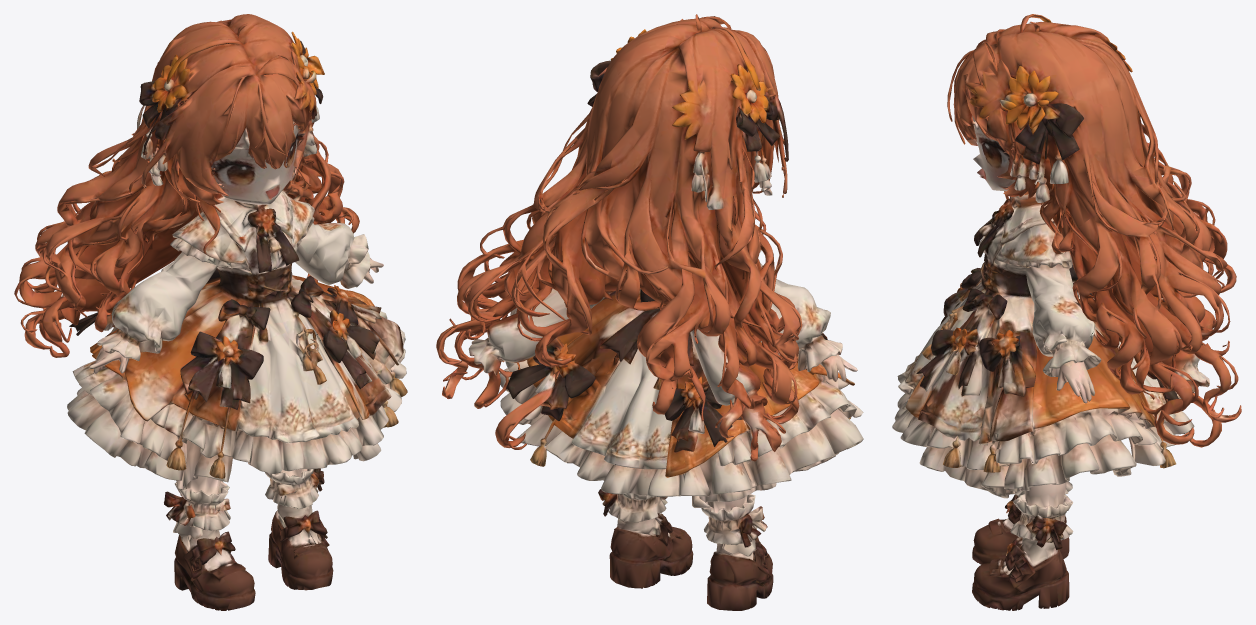
Rendered from claude.glb.
3 renders of one model, left to right at view 1: azimuth 30°, elevation 25°; view 2: azimuth 150°, elevation 25°; view 3: azimuth 270°, elevation 25°, orthographic. The views are drawn at different scales.
Parts seen in each view (by area): view 1: claude; view 2: claude; view 3: claude.
Part boxes in pixels (x1=…): claude: x1=14, y1=14, x2=407, y2=610; claude: x1=436, y1=14, x2=863, y2=610; claude: x1=892, y1=14, x2=1241, y2=610.
Bounding box in the file's own units: 0.6112 × 0.9804 × 0.5581.
1 material, 1 textured.
